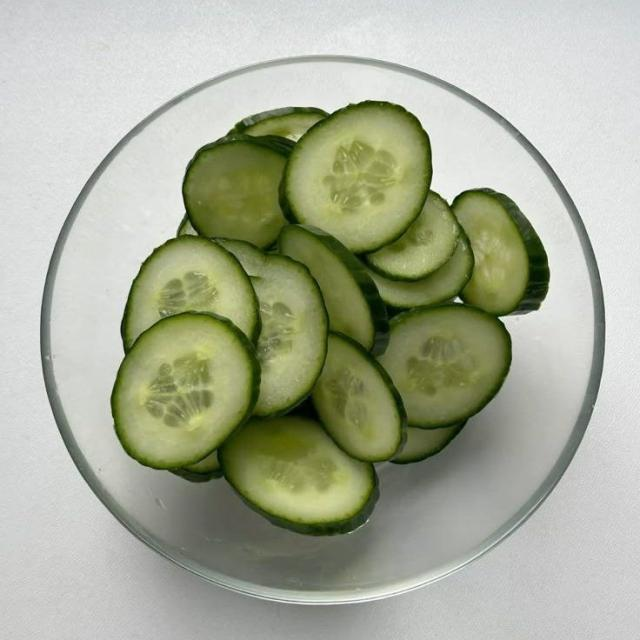cucumber sliced: (280, 101, 432, 253), (112, 313, 259, 469), (216, 240, 328, 416), (220, 417, 378, 534), (380, 304, 511, 428), (121, 236, 259, 350), (279, 226, 388, 353), (183, 134, 293, 246), (453, 189, 549, 315), (253, 255, 328, 416), (313, 334, 406, 461), (365, 192, 459, 280), (370, 229, 473, 308), (230, 107, 328, 141), (391, 422, 466, 464), (214, 238, 266, 276), (170, 452, 221, 482), (184, 452, 221, 476), (176, 214, 198, 236)
